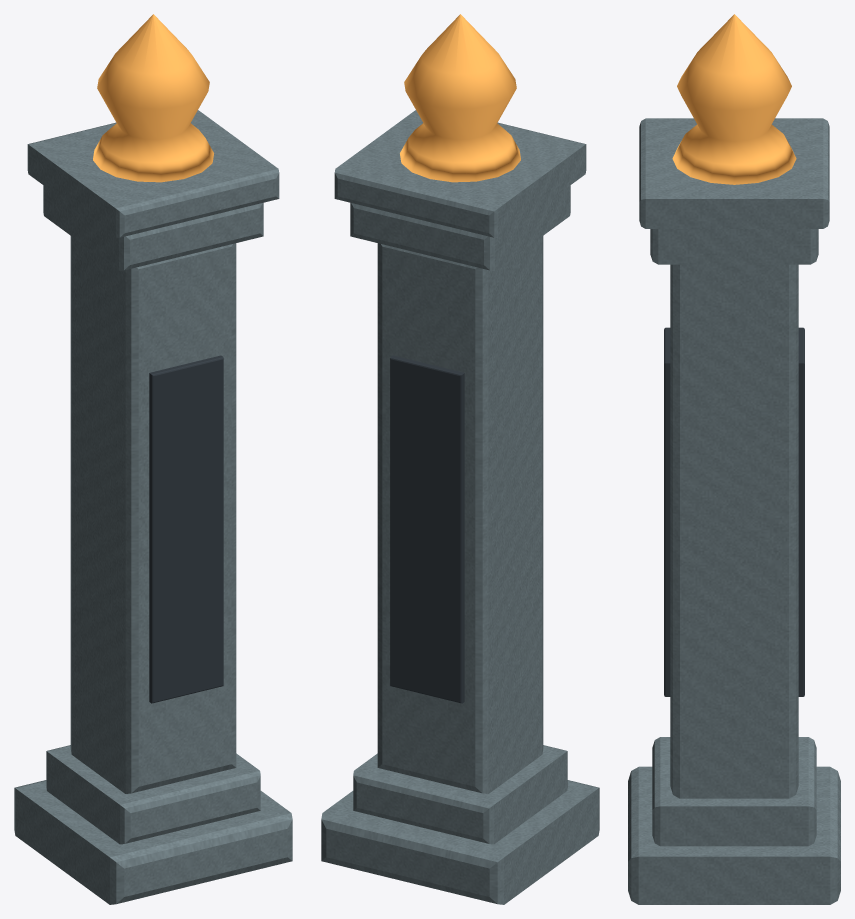
File: hollowwick-halloween-finial-gate-pillar-024e23de__21634.glb
3 views of the same model, side by side, from view 1: azimuth 30°, elevation 25°; view 2: azimuth 150°, elevation 25°; view 3: azimuth 270°, elevation 25° (orthographic).
Visible parts, largest first — view 1: finial-gate-pillar; view 2: finial-gate-pillar; view 3: finial-gate-pillar.
Boxes of the visible parts, box(x1,y1,x2,y2) form: finial-gate-pillar: box(14, 14, 292, 904); finial-gate-pillar: box(321, 14, 599, 904); finial-gate-pillar: box(628, 14, 840, 904).
Bounding box in the file's own units: 0.48 × 2.11 × 0.48.
Materials: 3 (1 with a texture image).
